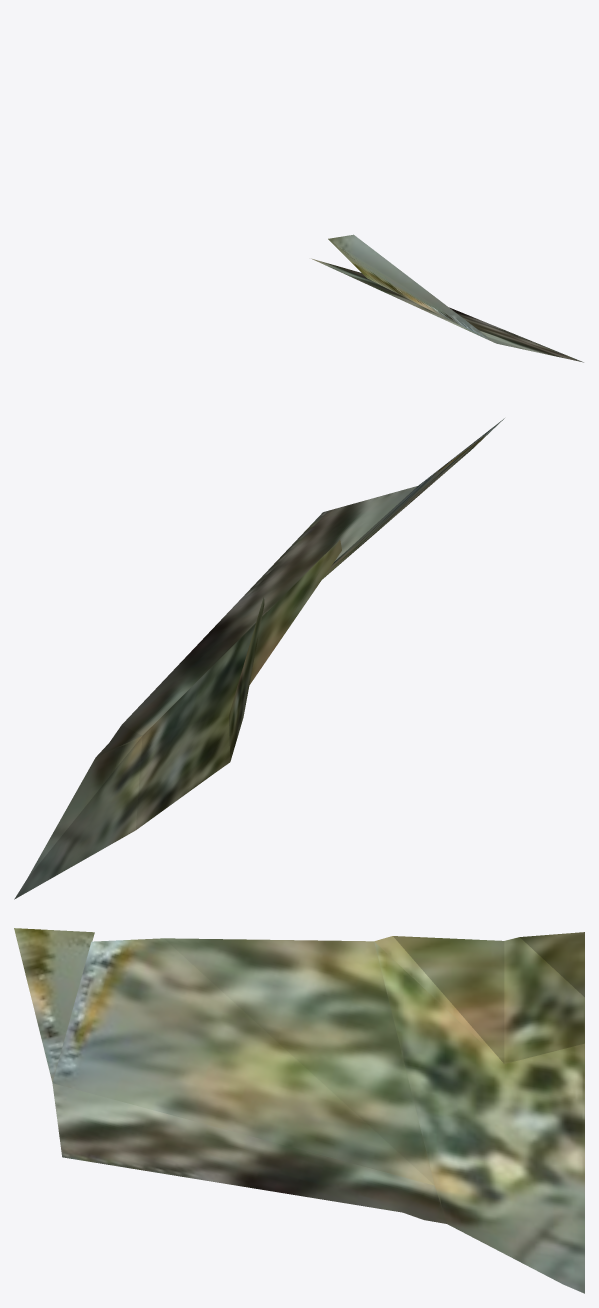
The picture shows the model from 3 angles, top to bottom: view 1: azimuth 30°, elevation 25°; view 2: azimuth 150°, elevation 25°; view 3: azimuth 270°, elevation 25°; orthographic projection. The views are drawn at different scales.
Size of the model in its own units: 0.5722 by 0.7459 by 1.43.
Materials: 1 (1 with a texture image).
